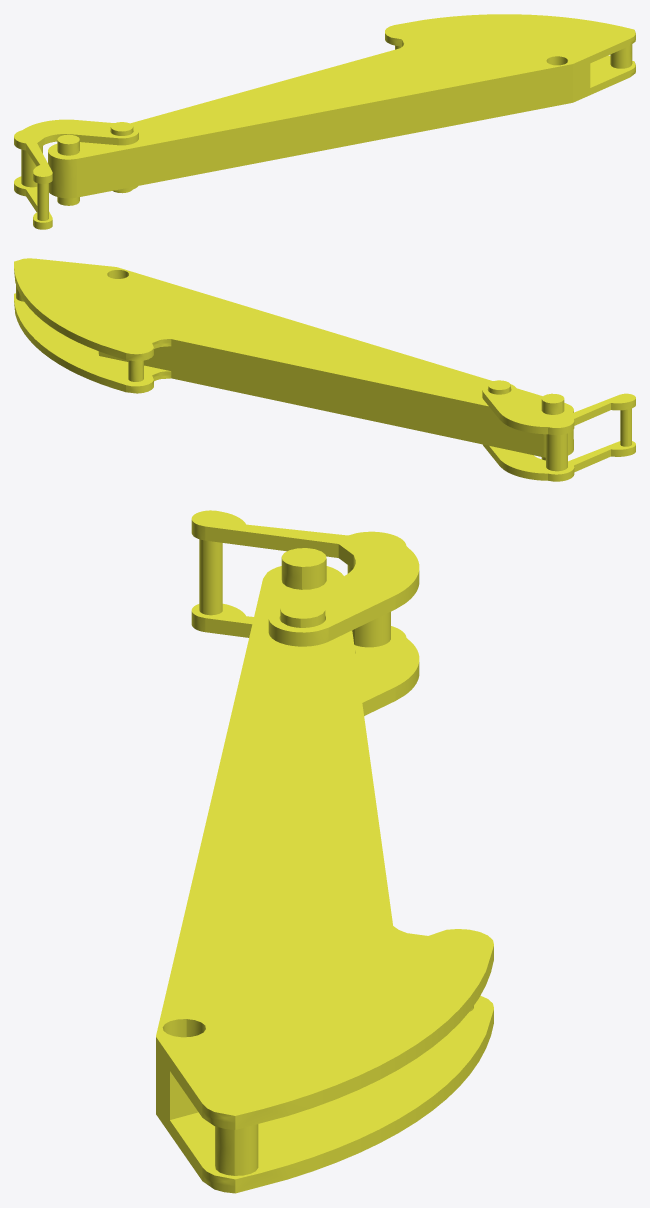
File: arm.glb
The picture shows the model from 3 angles, top to bottom: view 1: azimuth 30°, elevation 25°; view 2: azimuth 150°, elevation 25°; view 3: azimuth 270°, elevation 25°; orthographic projection. The views are drawn at different scales.
Parts seen in each view (by area): view 1: material_0; view 2: material_0; view 3: material_0.
Boxes of the visible parts, box(x1,y1,x2,y2) form: material_0: box(14, 14, 635, 229); material_0: box(14, 258, 635, 481); material_0: box(156, 510, 493, 1193).
Bounding box in the file's own units: 1.8 × 0.175 × 0.435.
